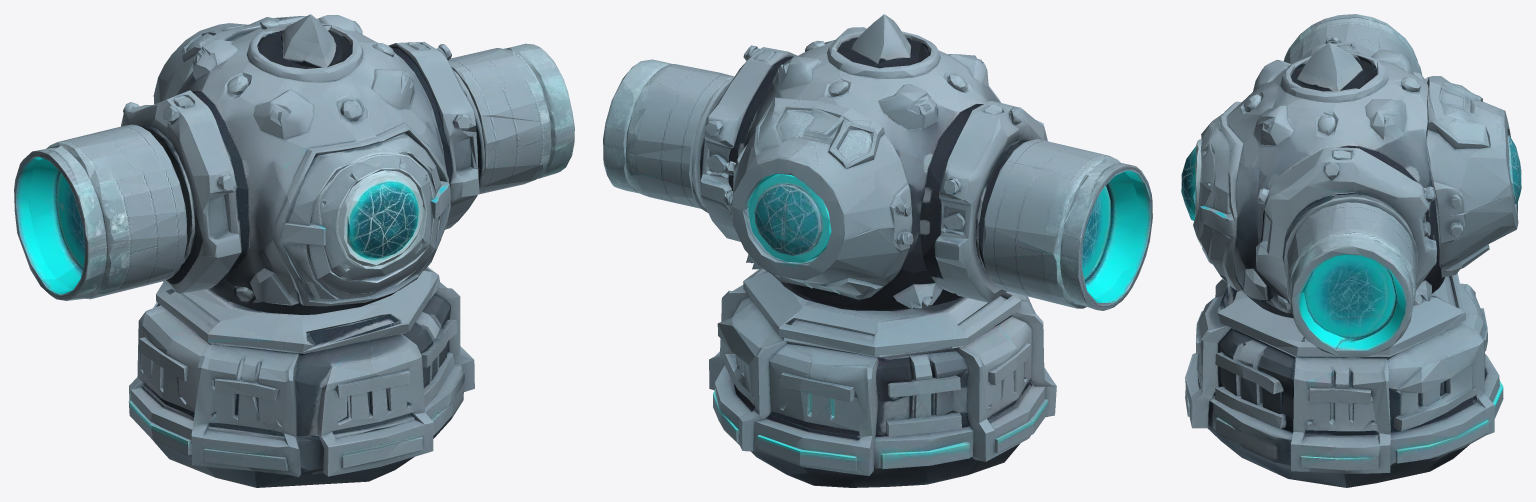
File: glacial_emitter.glb
3 renders of one model, left to right at view 1: azimuth 30°, elevation 25°; view 2: azimuth 150°, elevation 25°; view 3: azimuth 270°, elevation 25°, orthographic. The views are drawn at different scales.
Parts seen in each view (by area): view 1: model; view 2: model; view 3: model.
Part boxes in pixels (bbox=[...]): model: bbox=[14, 14, 574, 487]; model: bbox=[603, 14, 1152, 487]; model: bbox=[1181, 14, 1521, 487].
Bounding box in the file's own units: 1.29 × 1.05 × 0.8349.
Materials: 2 (1 with a texture image).
